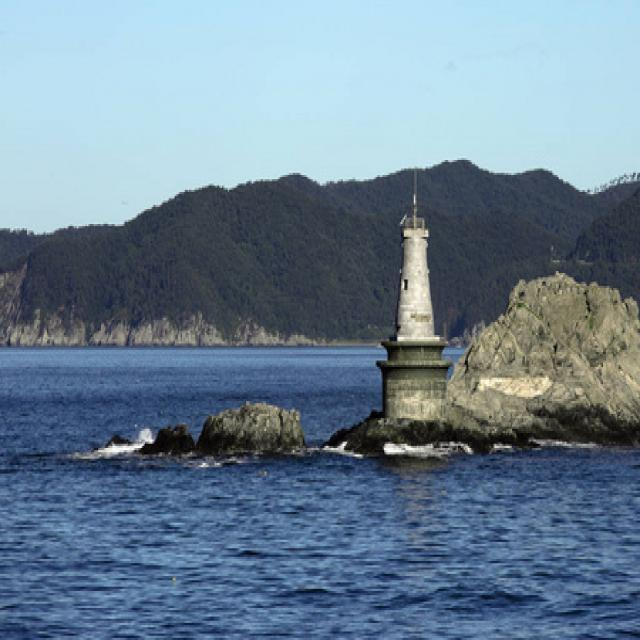island: (3, 134, 640, 365)
